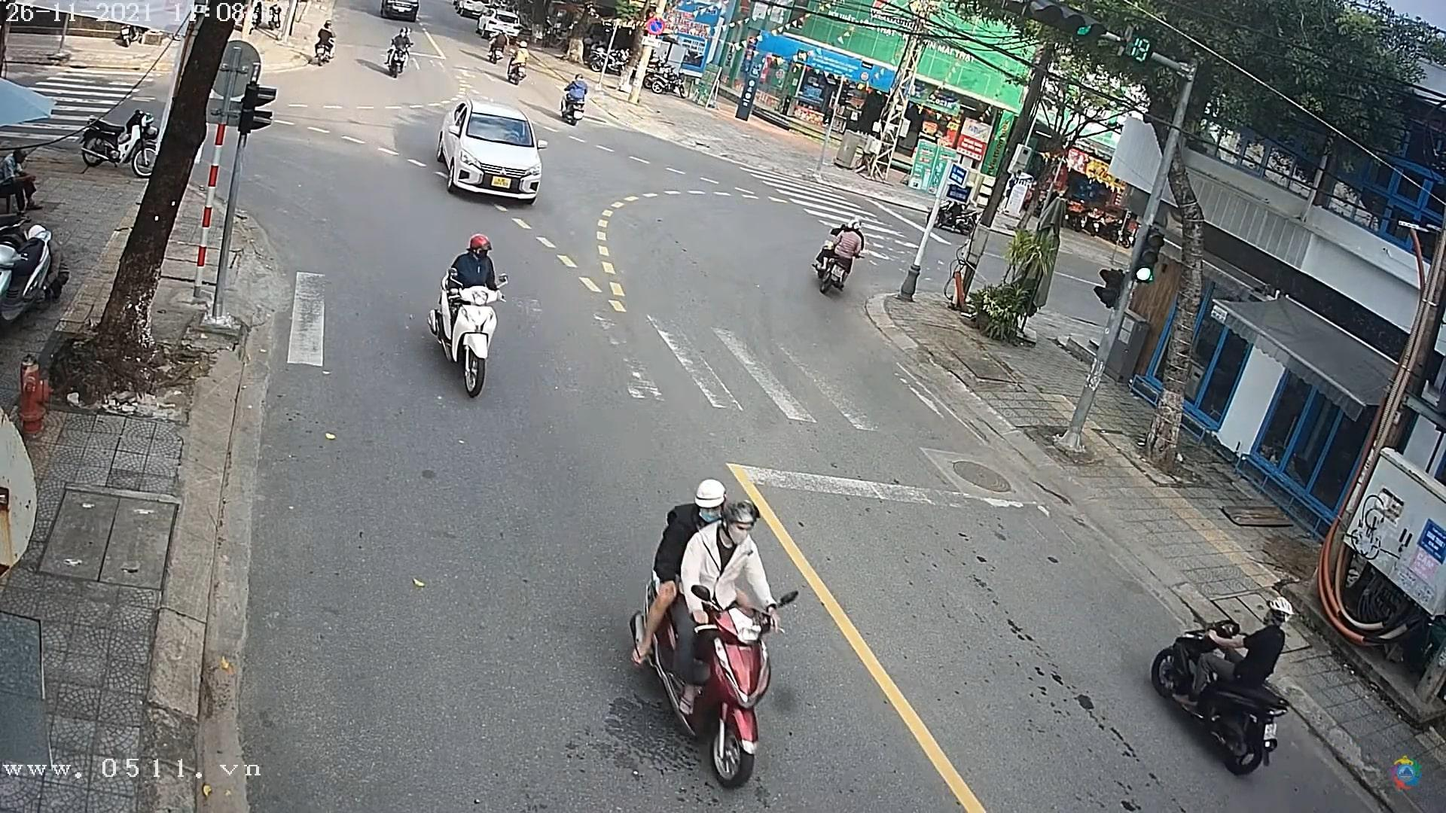car: (435, 105, 546, 204), (378, 2, 421, 21)
motorbike: (622, 548, 801, 799), (426, 276, 504, 403), (375, 38, 411, 83), (560, 78, 591, 123)
